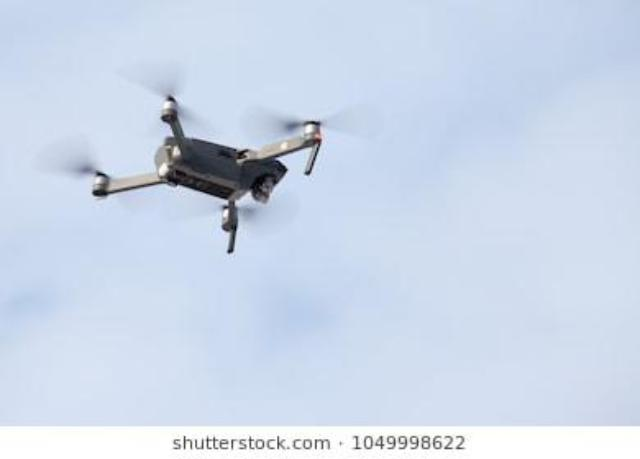drone: (5, 49, 422, 281)
